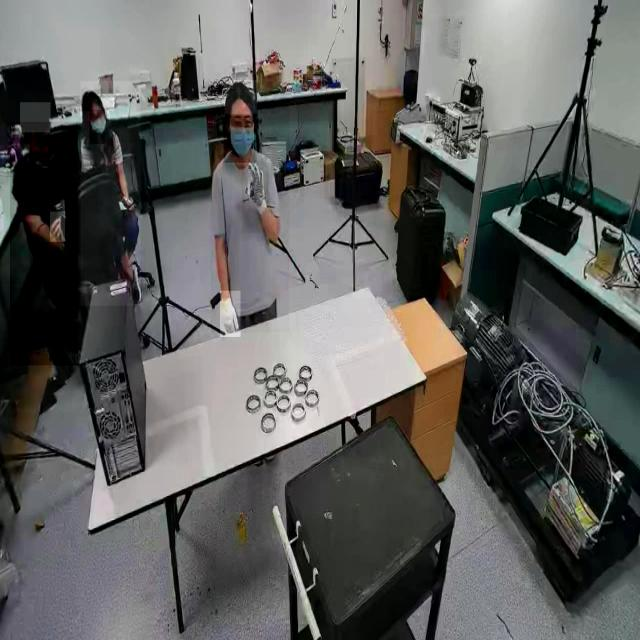face_mask: (223, 116, 256, 162), (89, 110, 105, 144)
face_nomask: (29, 135, 55, 167)
hand_glove: (242, 162, 270, 233), (220, 290, 240, 338)
hand_noglove: (49, 212, 65, 242)
head_nohelmet: (224, 80, 257, 115), (20, 102, 50, 134), (80, 89, 104, 112)
person: (210, 82, 289, 333), (10, 122, 78, 366), (80, 81, 140, 307)
